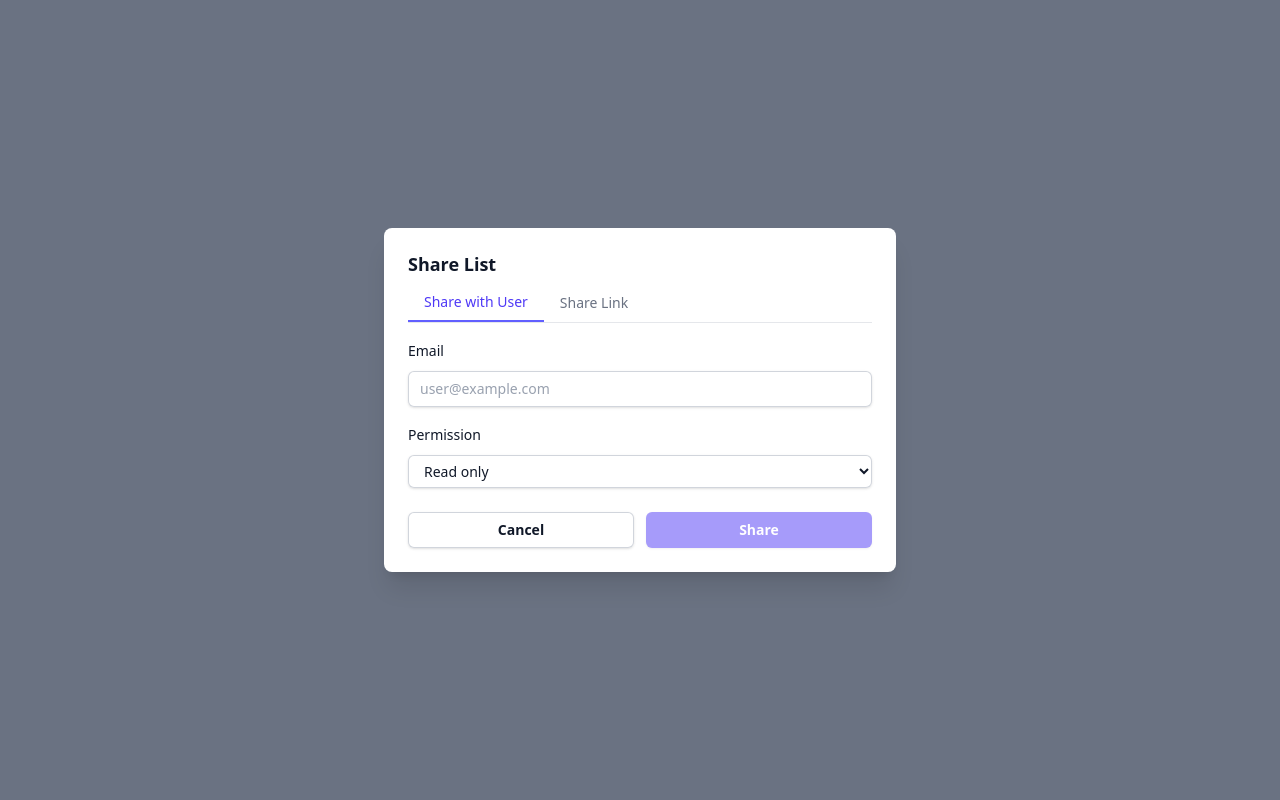
Test: ShareListModal › shows expiry preset buttons for link share
Click link tab
Click the button "Share Link": (594, 303) [544,284,644,322]
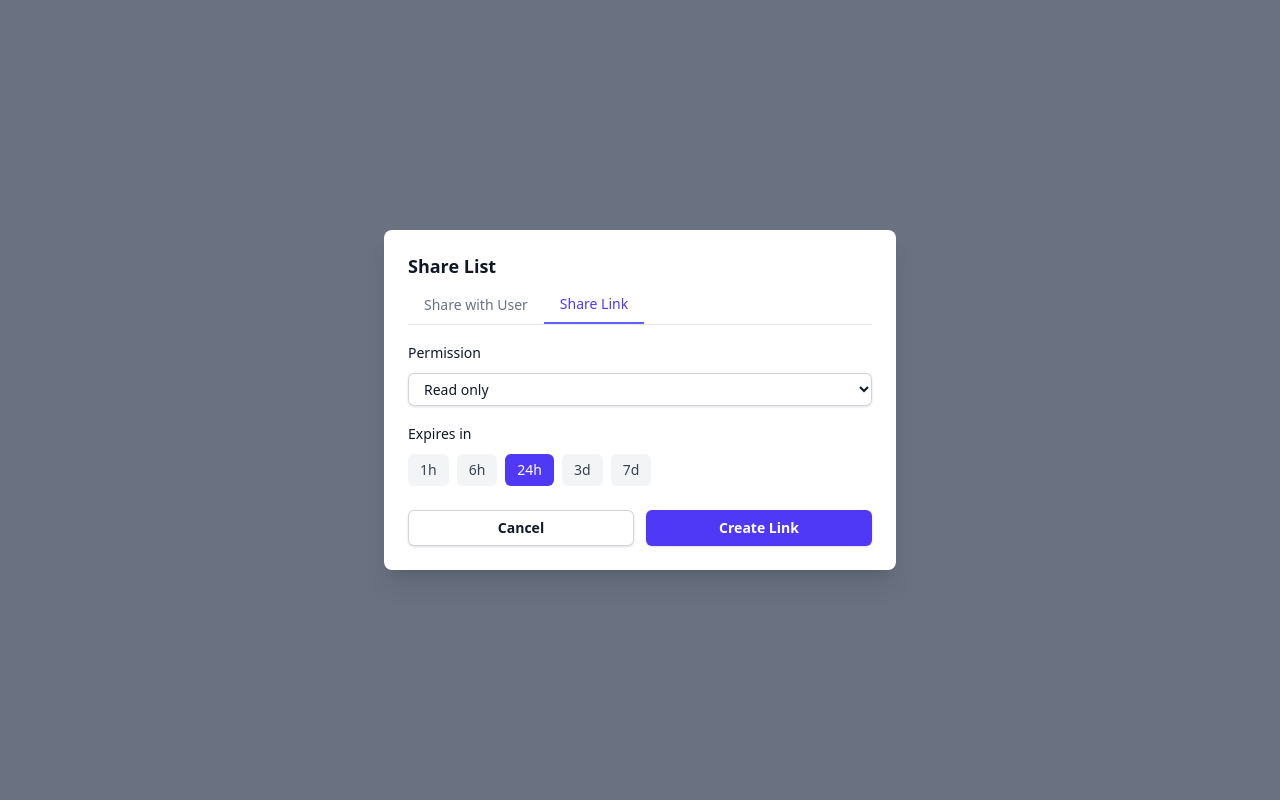
Check: the text "Expires in" is shown, box [408,424,471,443]
Check: the button "1h" is shown, box [408,454,449,486]
Check: the button "24h" is shown, box [505,454,554,486]
